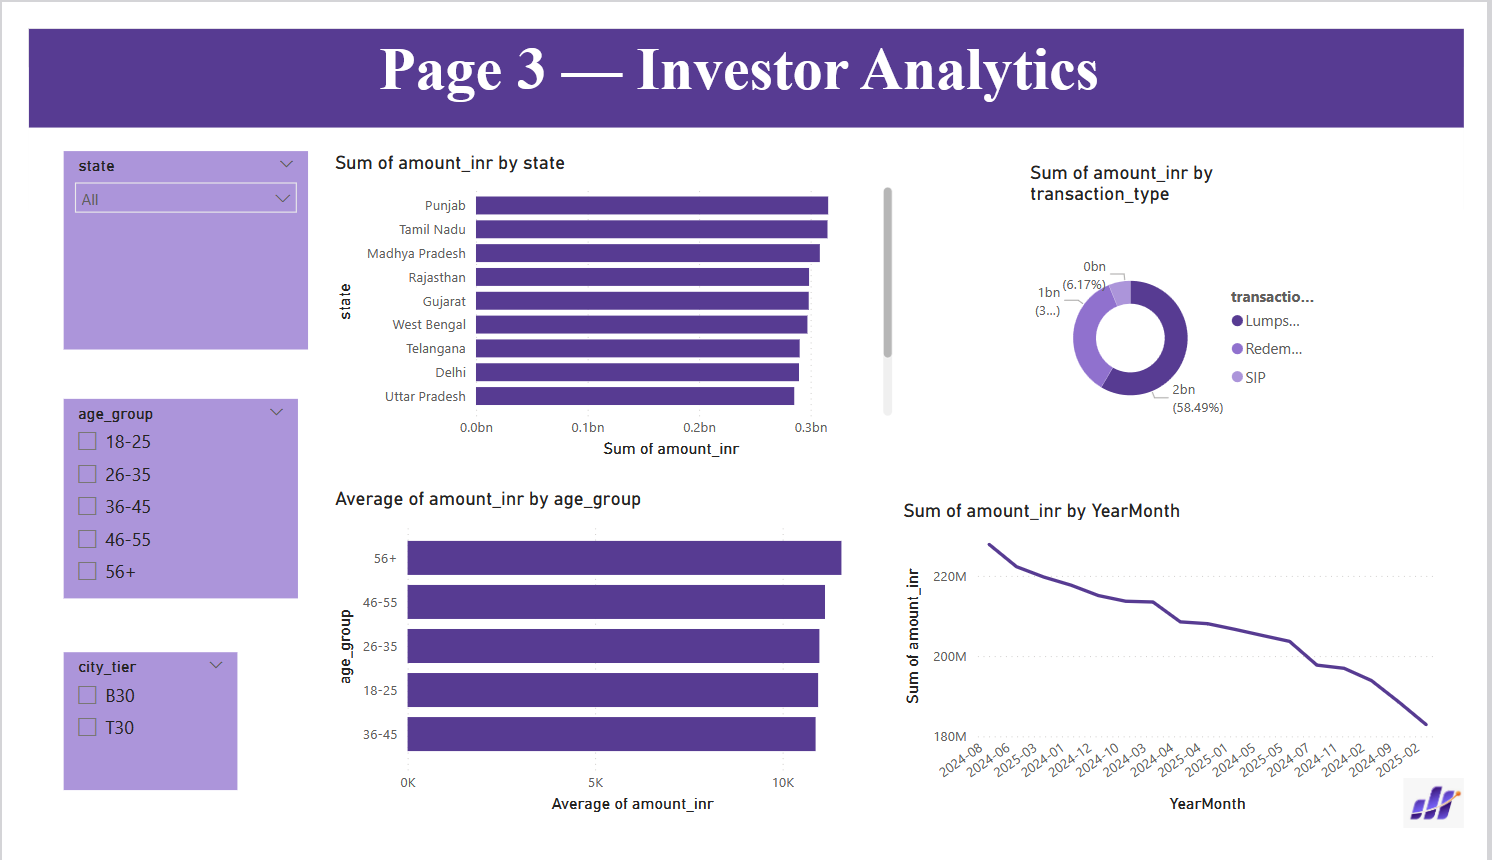

The page's visual inventory and layout, read from the dashboard file:
{"tool":"powerbi","page":{"name":"Page 3","canvas":[1280,720],"ordinal":2},"visuals":[{"type":"textbox","box":[0,0,1280,87.5],"z":0},{"type":"clusteredBarChart","fields":{"Category":["fact_transactions.state"],"Y":["Sum(fact_transactions.amount_inr)"]},"box":[267.5,108.8,507.5,278.8],"z":1},{"type":"clusteredBarChart","fields":{"Category":["fact_transactions.age_group"],"Y":["Avg(fact_transactions.amount_inr)"]},"box":[267.5,408.8,486.2,295],"z":2},{"type":"donutChart","fields":{"Y":["Sum(fact_transactions.amount_inr)"],"Category":["fact_transactions.transaction_type"]},"box":[887.5,117.5,267.5,278.8],"z":3},{"type":"lineChart","fields":{"Y":["Sum(fact_transactions.amount_inr)"],"Category":["DateTable.YearMonth"]},"box":[775,418.8,486.2,285],"z":4},{"type":"slicer","fields":{"Values":["fact_transactions.state"]},"box":[31.2,108.8,217.5,177.5],"z":5},{"type":"slicer","fields":{"Values":["fact_transactions.age_group"]},"box":[31.2,330,208.8,177.5],"z":6},{"type":"slicer","fields":{"Values":["fact_transactions.city_tier"]},"box":[31.2,556.2,155,122.5],"z":7},{"type":"image","box":[1226.2,661.2,53.8,58.8],"z":8}]}

Visuals, with their boxes in screenshot pixels (x1, y1, x2, y2), scaled from the page's 1280x720 canvas onto the 1492x860 screenshot:
textbox: x1=0, y1=0, x2=1491, y2=105
clusteredBarChart - fact_transactions.state x Sum(fact_transactions.amount_inr): x1=312, y1=130, x2=903, y2=463
clusteredBarChart - fact_transactions.age_group x Avg(fact_transactions.amount_inr): x1=312, y1=488, x2=879, y2=841
donutChart - Sum(fact_transactions.amount_inr) x fact_transactions.transaction_type: x1=1034, y1=140, x2=1346, y2=473
lineChart - Sum(fact_transactions.amount_inr) x DateTable.YearMonth: x1=903, y1=500, x2=1470, y2=841
slicer - fact_transactions.state: x1=36, y1=130, x2=290, y2=342
slicer - fact_transactions.age_group: x1=36, y1=394, x2=280, y2=606
slicer - fact_transactions.city_tier: x1=36, y1=664, x2=217, y2=811
image: x1=1429, y1=790, x2=1491, y2=859
